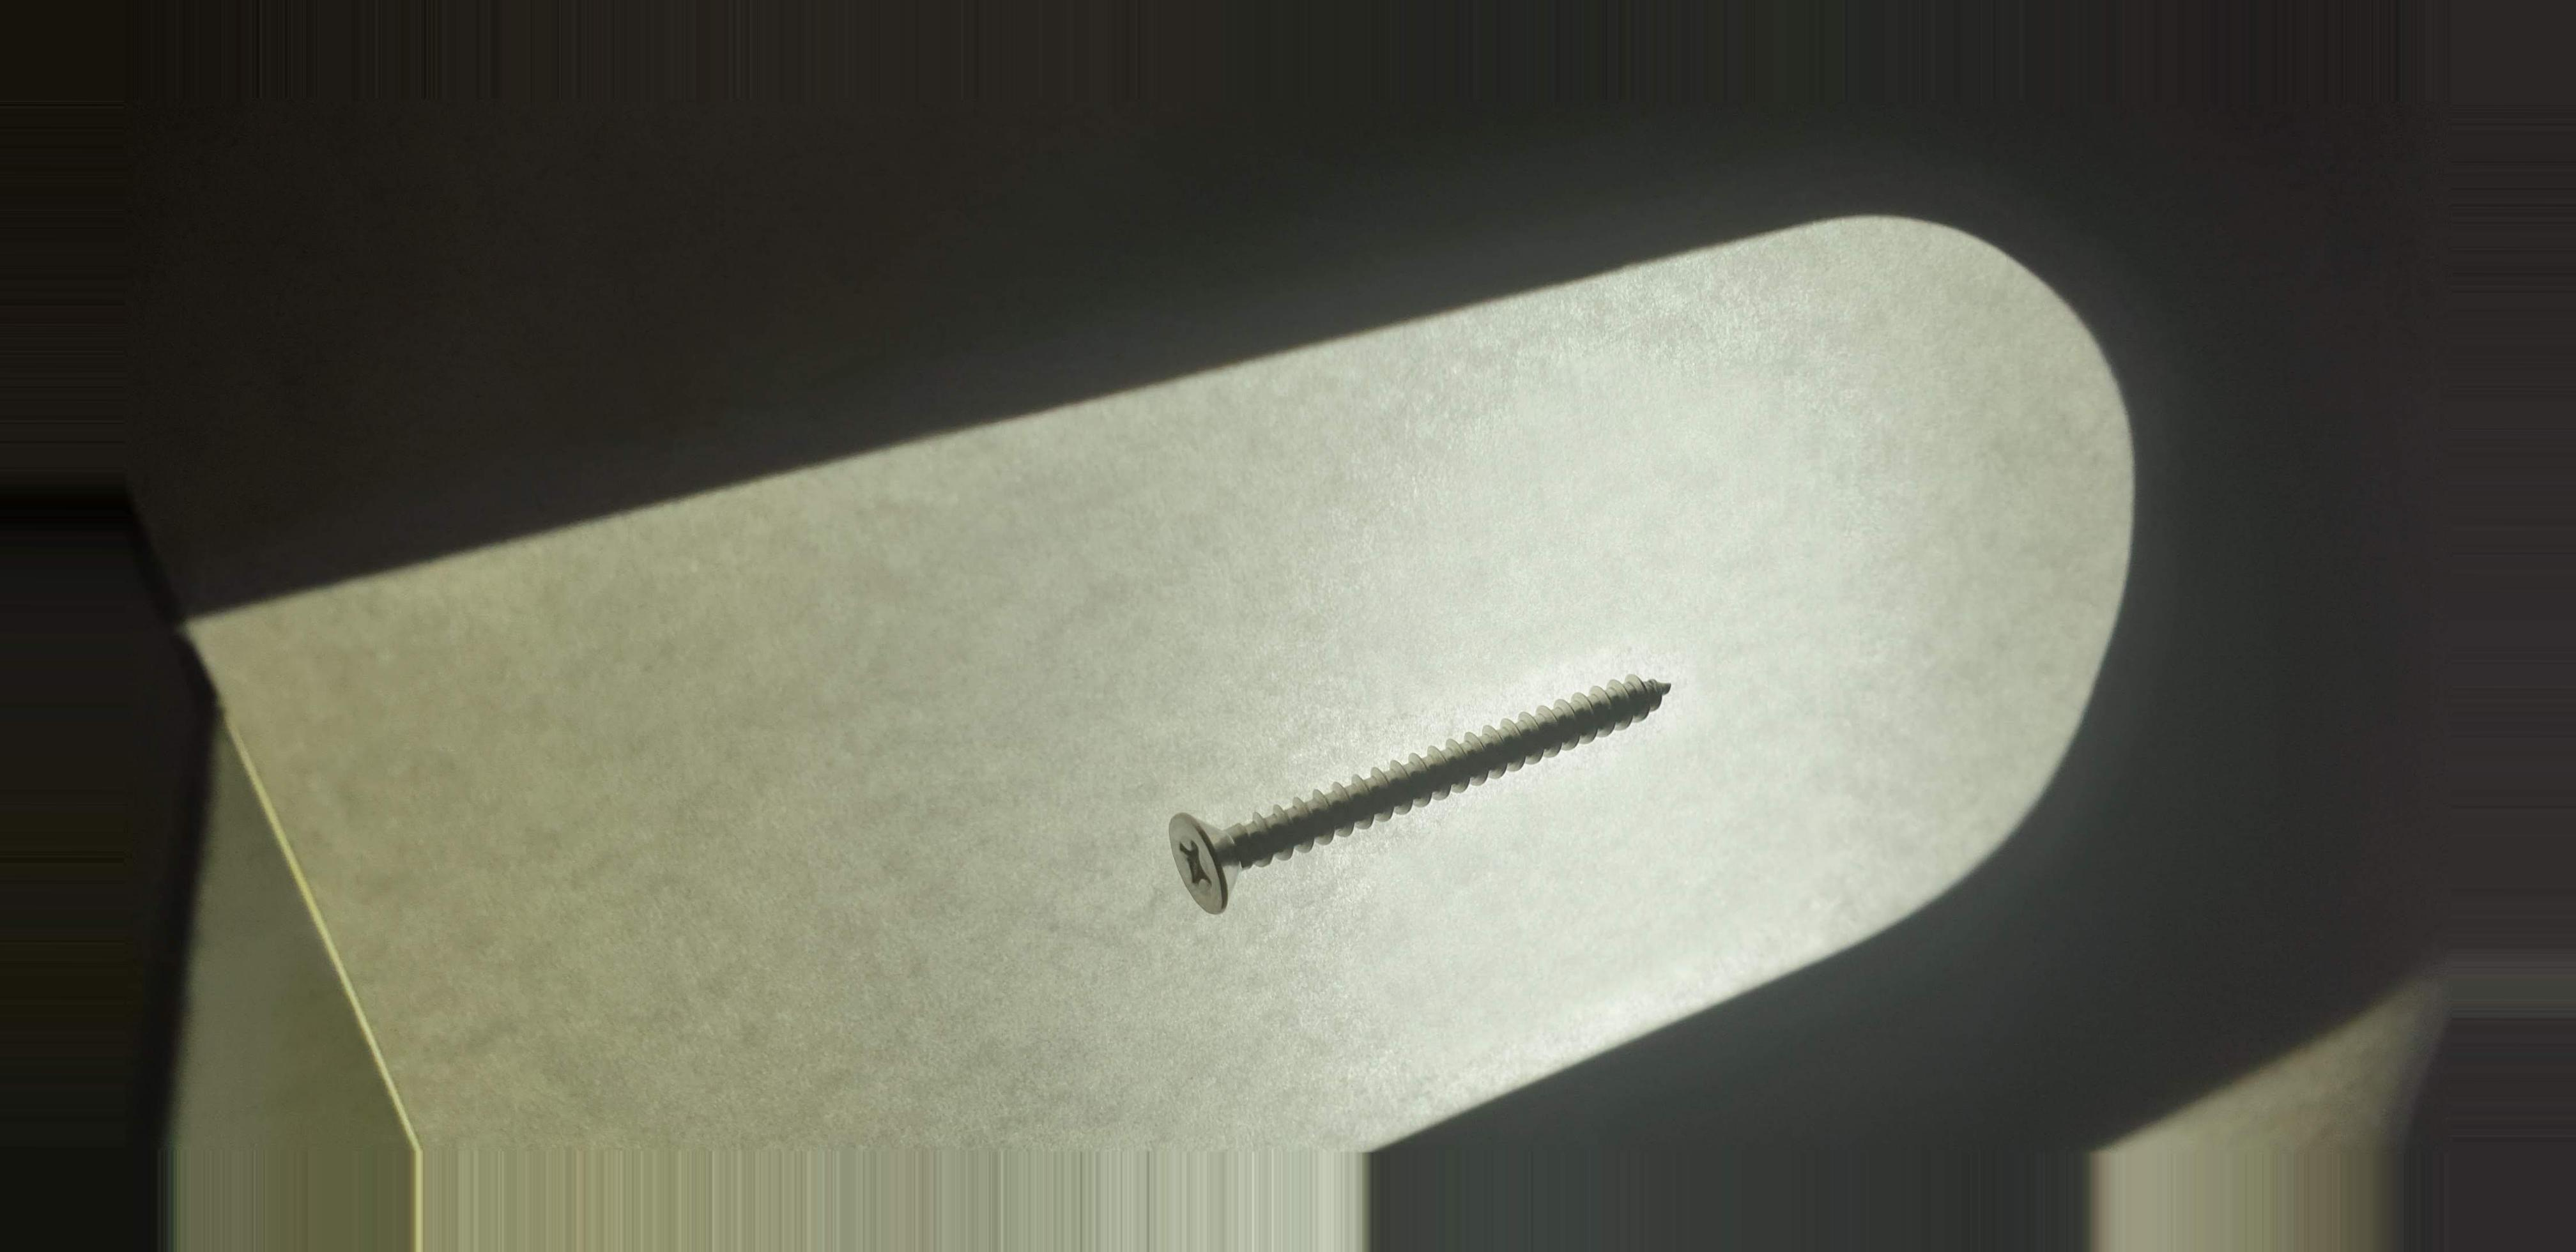S001: (1134, 644, 1745, 933)
